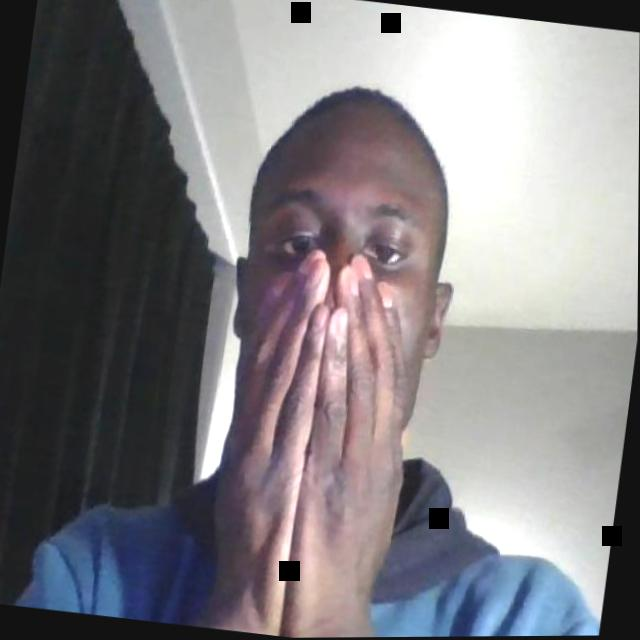NO-Mask: (222, 147, 451, 436)
